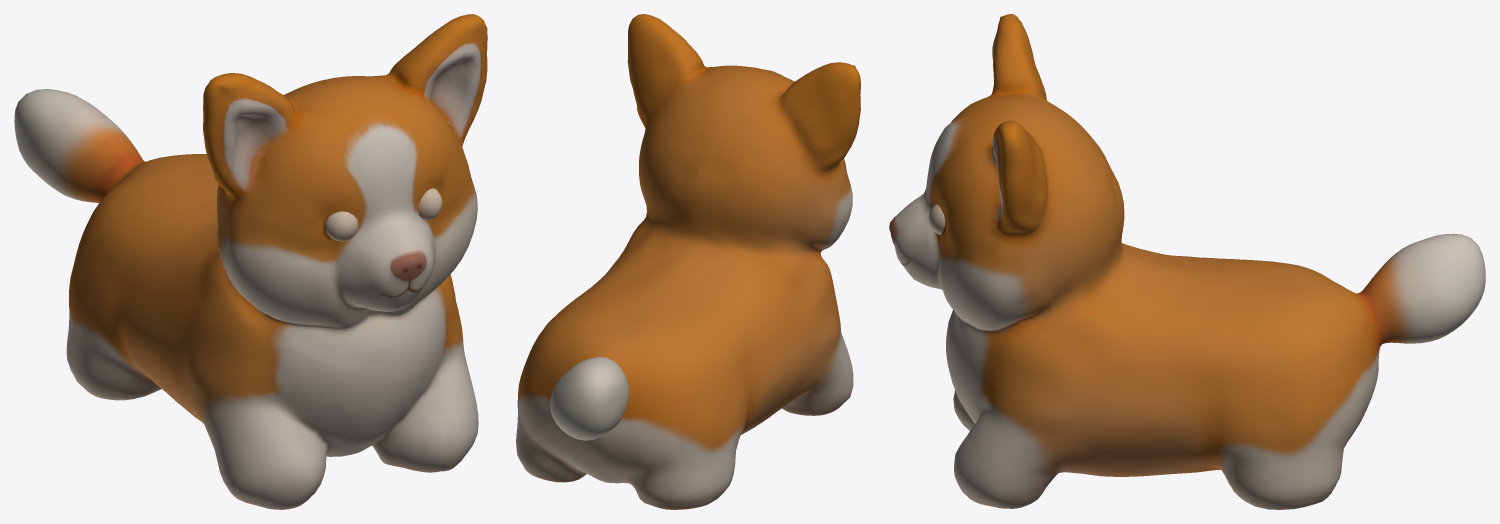
Rendered from (Most important)CorgiPlush.fbx.
The picture shows the model from 3 angles, left to right: view 1: azimuth 30°, elevation 25°; view 2: azimuth 150°, elevation 25°; view 3: azimuth 270°, elevation 25°; orthographic projection. The views are drawn at different scales.
Visible parts, largest first — view 1: CorgiPlush; view 2: CorgiPlush; view 3: CorgiPlush.
Boxes of the visible parts, x1,y1,x2,y2 form: CorgiPlush: [14, 14, 487, 509]; CorgiPlush: [516, 14, 860, 509]; CorgiPlush: [889, 14, 1485, 509].
Size of the model in its own units: 0.496 by 0.7237 by 0.9993.
2 materials, 2 textured.
